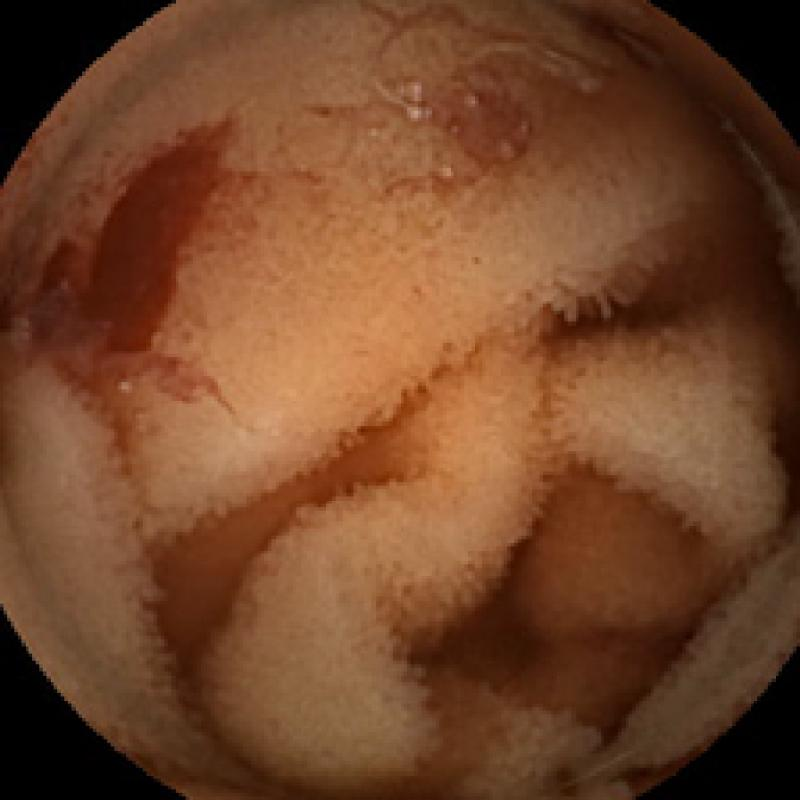bleeding: (39, 114, 218, 354)
